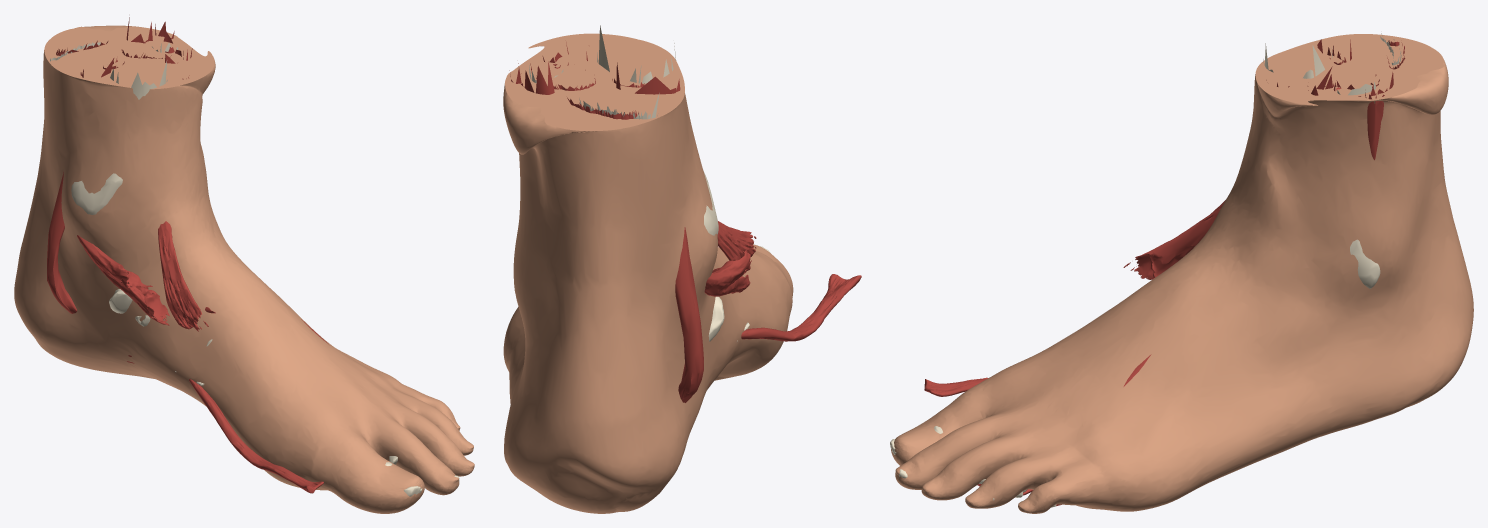
The model's file is foot-l.glb.
3 renders of one model, left to right at view 1: azimuth 30°, elevation 25°; view 2: azimuth 150°, elevation 25°; view 3: azimuth 270°, elevation 25°, orthographic. The views are drawn at different scales.
Parts seen in each view (by area): view 1: skin, muscle, bone; view 2: skin, muscle, bone; view 3: skin, muscle, bone.
Part boxes in pixels (bbox=[...]): skin: bbox=[14, 25, 474, 513]; muscle: bbox=[47, 17, 328, 493]; bone: bbox=[71, 42, 459, 496]; skin: bbox=[503, 33, 793, 513]; muscle: bbox=[509, 42, 861, 402]; bone: bbox=[529, 25, 770, 341]; skin: bbox=[891, 34, 1473, 513]; muscle: bbox=[924, 39, 1405, 506]; bone: bbox=[890, 43, 1380, 507].
Bounding box in the file's own units: 0.131 × 0.1697 × 0.2243.
